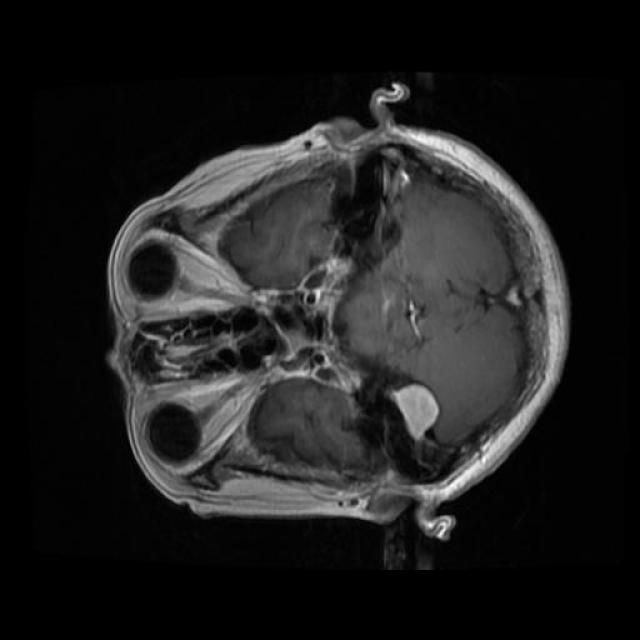Meningioma: (389, 383, 439, 440)
